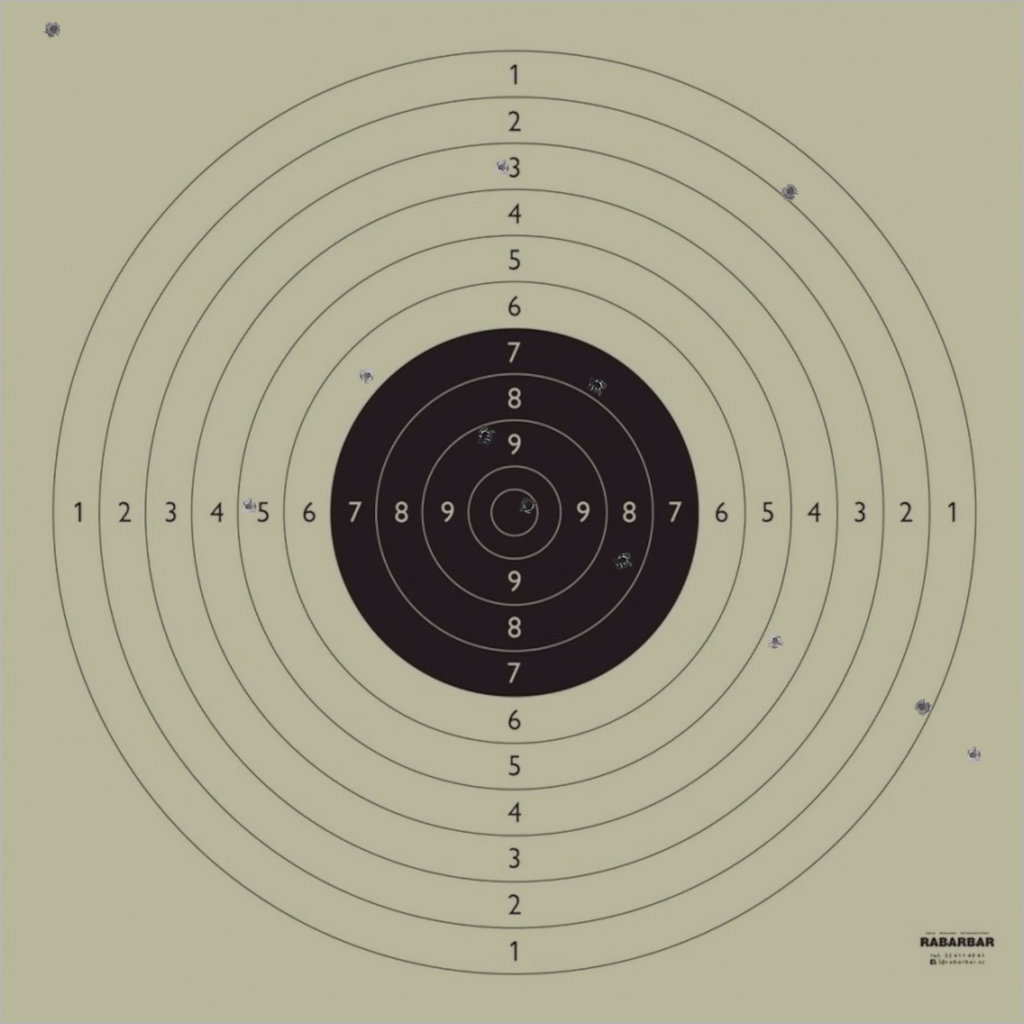0 punktow: (964, 746, 982, 764)
1 punkt: (913, 698, 932, 716)
10 punktow: (519, 497, 538, 515)
2 punkty: (781, 182, 799, 201)
3 punkty: (493, 158, 511, 177)
4 punkty: (766, 632, 784, 650)
5 punktow: (240, 497, 258, 516)
6 punktow: (358, 366, 377, 385)
7 punktow: (587, 376, 606, 395)
8 punktow: (613, 552, 632, 570)
9 punktow: (476, 427, 494, 445)
